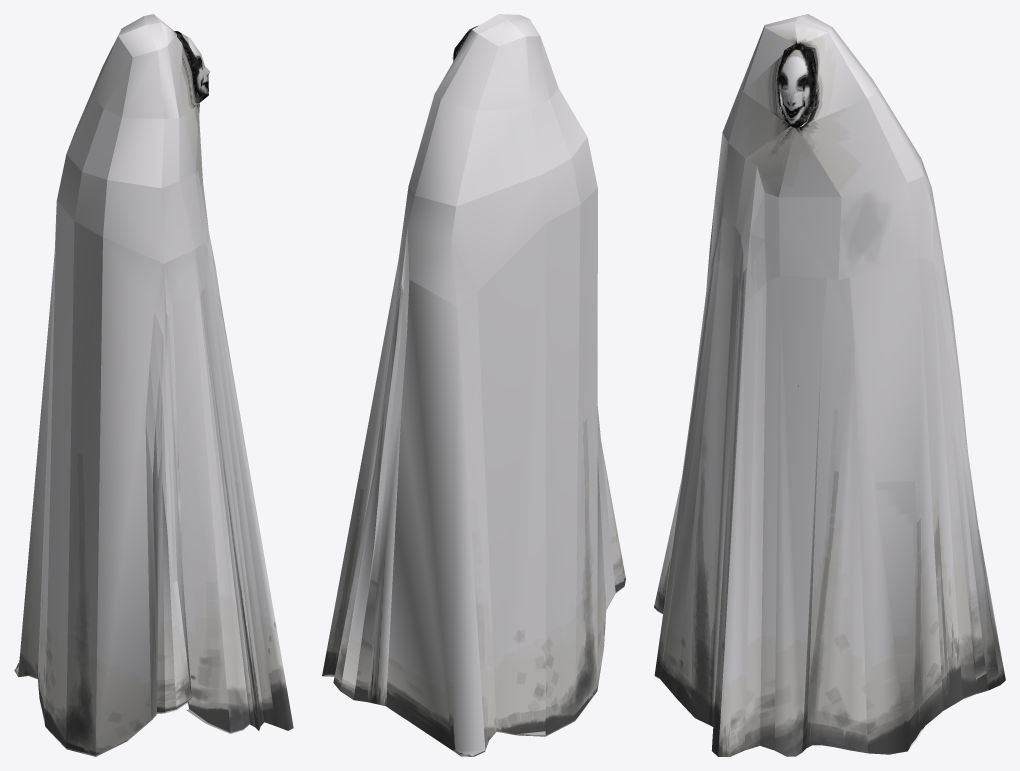
Rendered from Fantasma.fbx.
3 views of the same model, side by side, from view 1: azimuth 30°, elevation 25°; view 2: azimuth 150°, elevation 25°; view 3: azimuth 270°, elevation 25° (orthographic). The views are drawn at different scales.
Visible parts, largest first — view 1: Cube.001; view 2: Cube.001; view 3: Cube.001.
Part boxes in pixels (box(x1,y1,x2,y2)): Cube.001: box(14, 14, 293, 756); Cube.001: box(322, 14, 625, 756); Cube.001: box(654, 14, 1005, 756).
Bounding box in the file's own units: 116 × 359 × 164.
2 materials, 2 textured.
